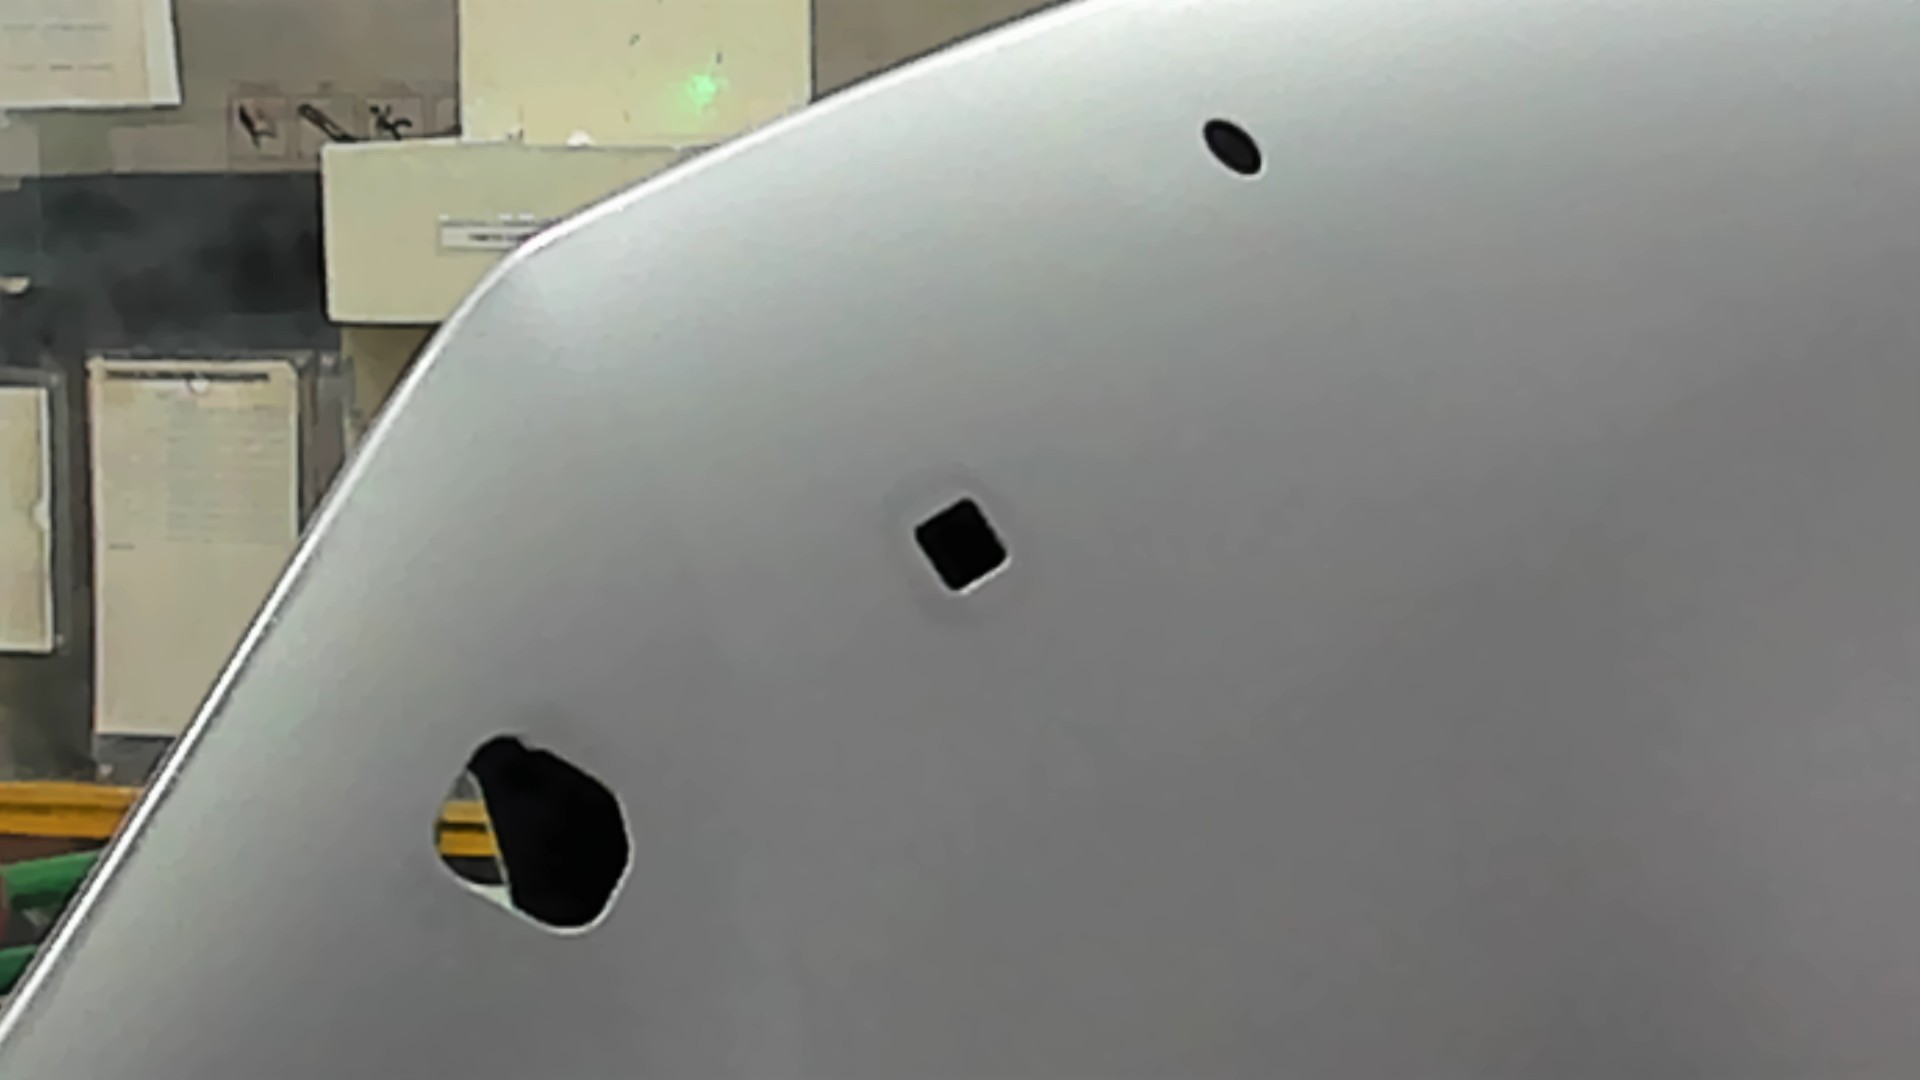chico: (1185, 117, 1271, 187)
grande: (411, 723, 663, 955)
mediano: (902, 483, 1023, 611)
